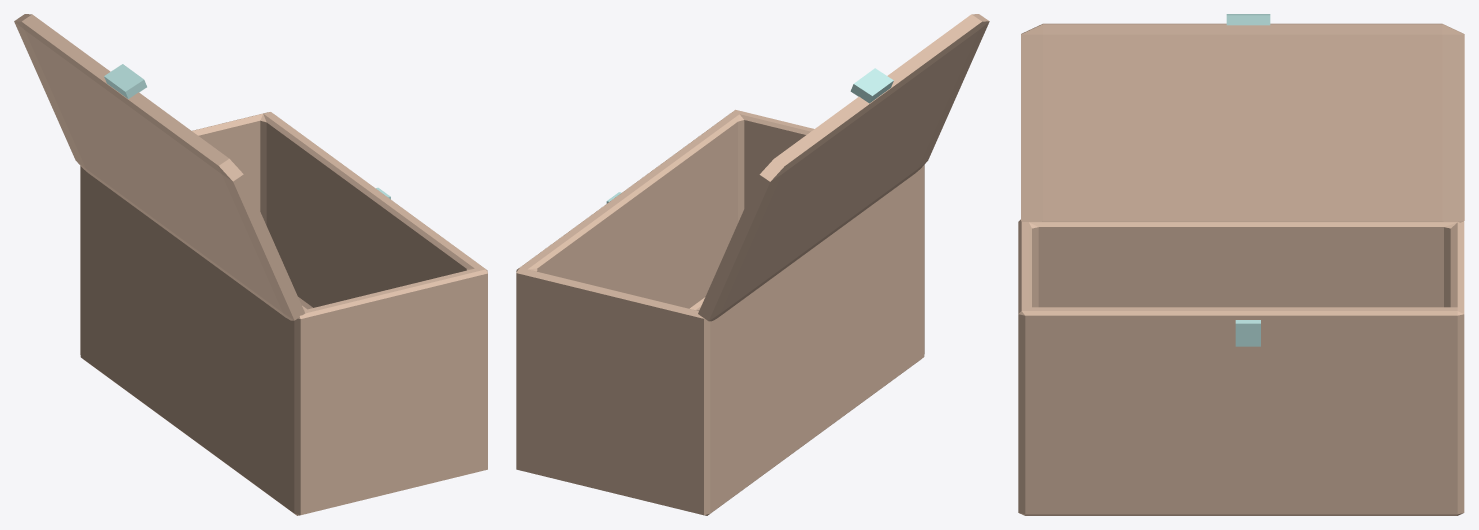
The model's file is truhe.fbx.
3 renders of one model, left to right at view 1: azimuth 30°, elevation 25°; view 2: azimuth 150°, elevation 25°; view 3: azimuth 270°, elevation 25°, orthographic.
Parts seen in each view (by area): view 1: truhe; view 2: truhe; view 3: truhe.
Boxes of the visible parts, x1=… form: truhe: x1=14, y1=14, x2=487, y2=515; truhe: x1=516, y1=14, x2=989, y2=515; truhe: x1=1018, y1=14, x2=1464, y2=515.
Bounding box in the file's own units: 113 × 150 × 160.
